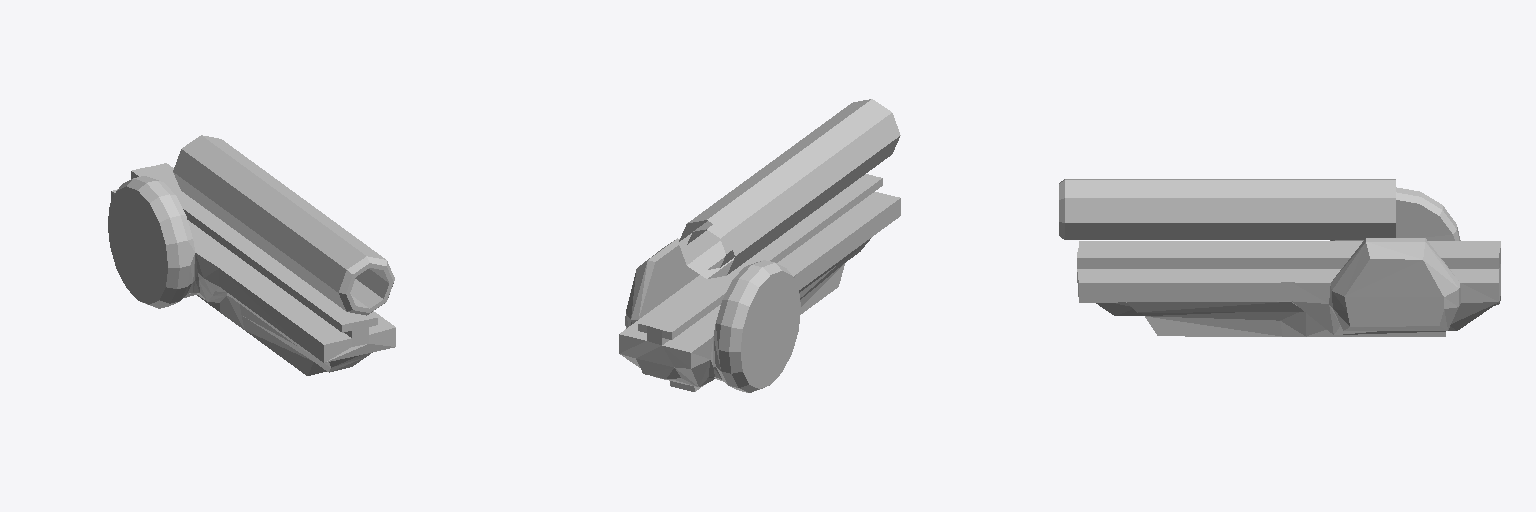
File: MSphere_LReciever.obj
The picture shows the model from 3 angles: view 1: azimuth 30°, elevation 25°; view 2: azimuth 150°, elevation 25°; view 3: azimuth 270°, elevation 25°; orthographic projection.
Visible parts, largest first — view 1: LowPolyLeftReciever.001_Circle.006; view 2: LowPolyLeftReciever.001_Circle.006; view 3: LowPolyLeftReciever.001_Circle.006.
Boxes of the visible parts, <box> form: LowPolyLeftReciever.001_Circle.006: <box>108,135,395,375</box>; LowPolyLeftReciever.001_Circle.006: <box>619,99,900,392</box>; LowPolyLeftReciever.001_Circle.006: <box>1059,179,1500,336</box>.
Size of the model in its own units: 0.2067 by 0.2537 by 0.6549.